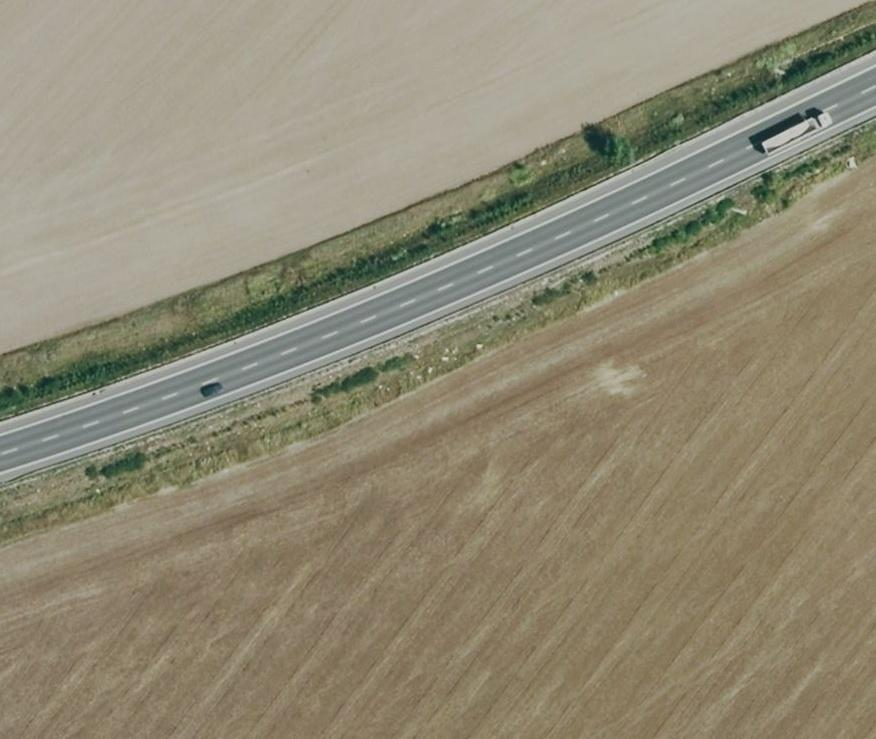field: (0, 157, 876, 736), (0, 0, 854, 352)
